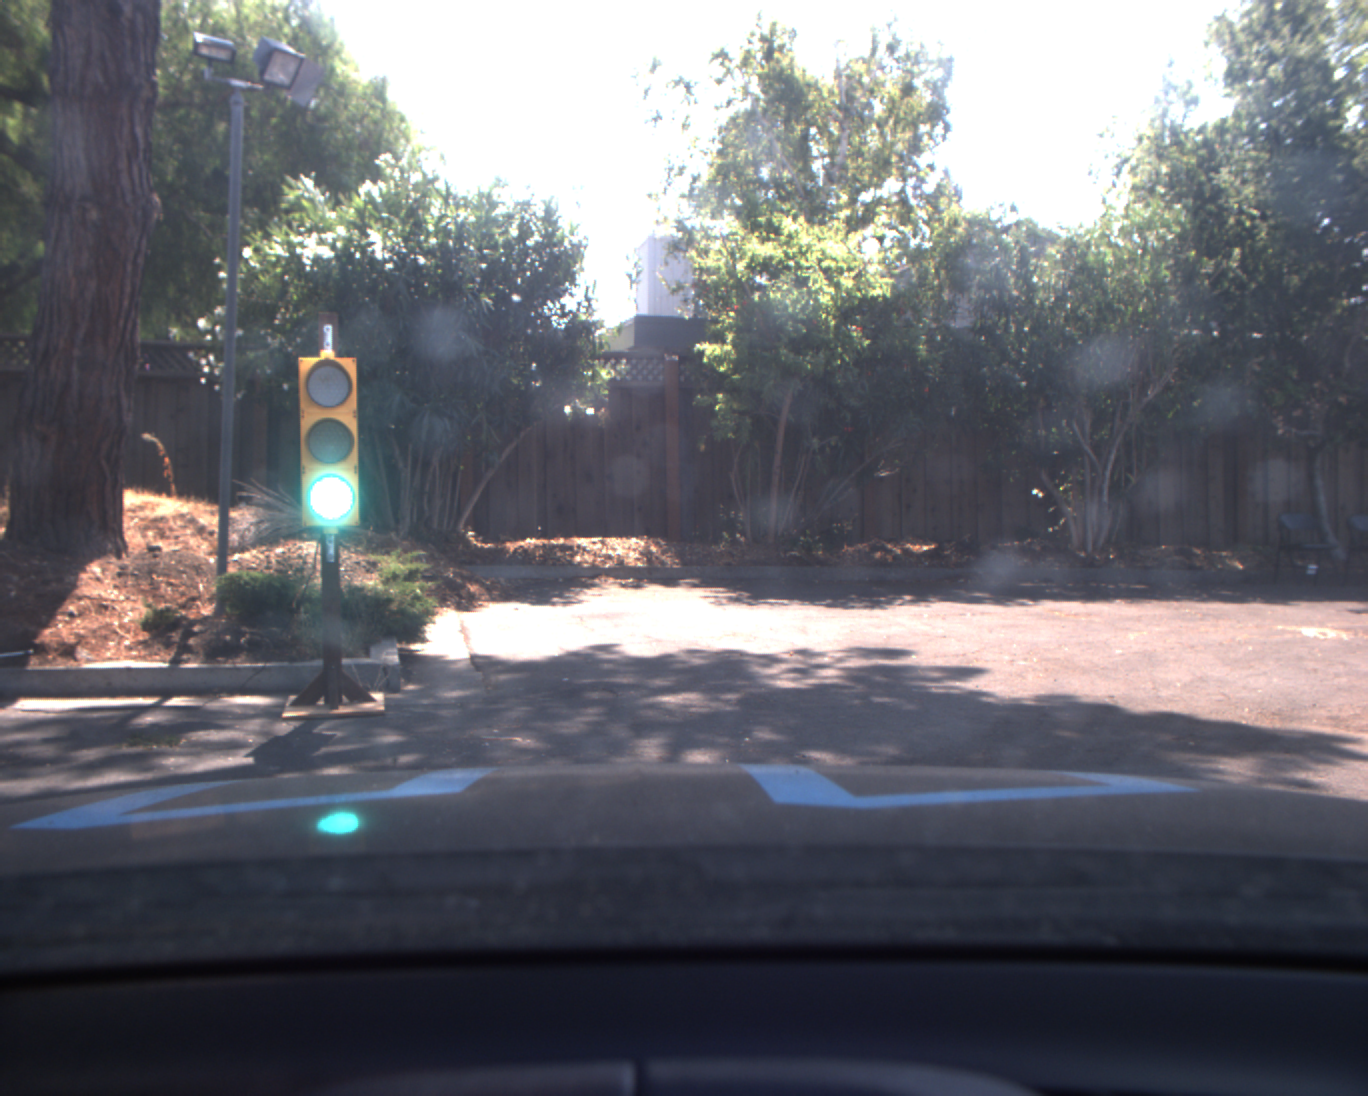green: (295, 348, 364, 531)
